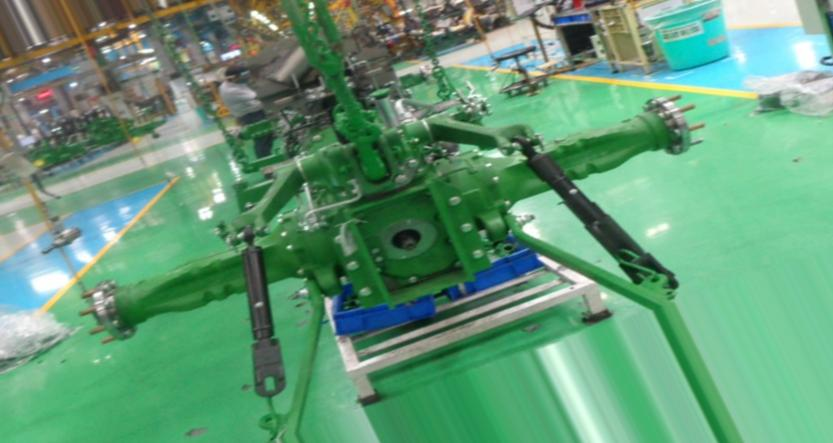engine: (78, 40, 707, 365)
